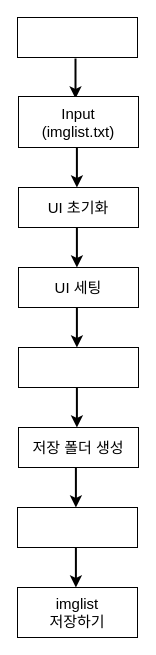
Image size: 156x655. Some labels were removed from this diagram. The centre of each missing label's shape, as x and y in pixels:
imglist 읽기: pixel 78 367
Join Path: pixel 77 37
경로 붙이기: pixel 77 527
